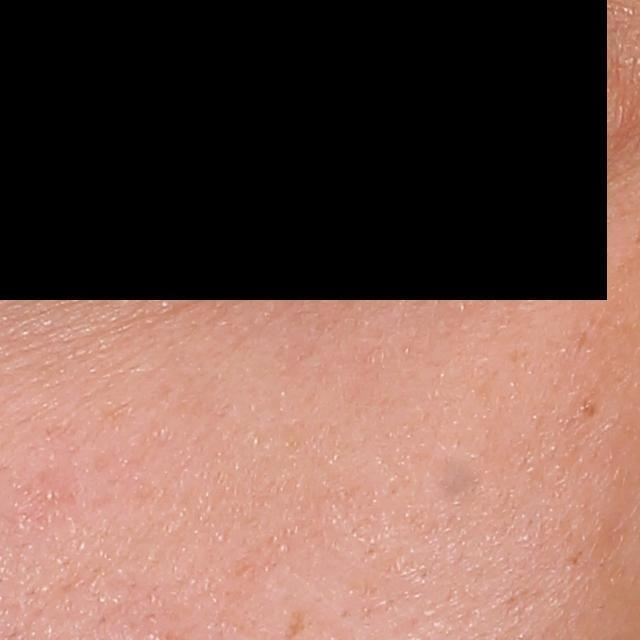melasma: (576, 394, 600, 424)
other: (426, 442, 489, 520)
